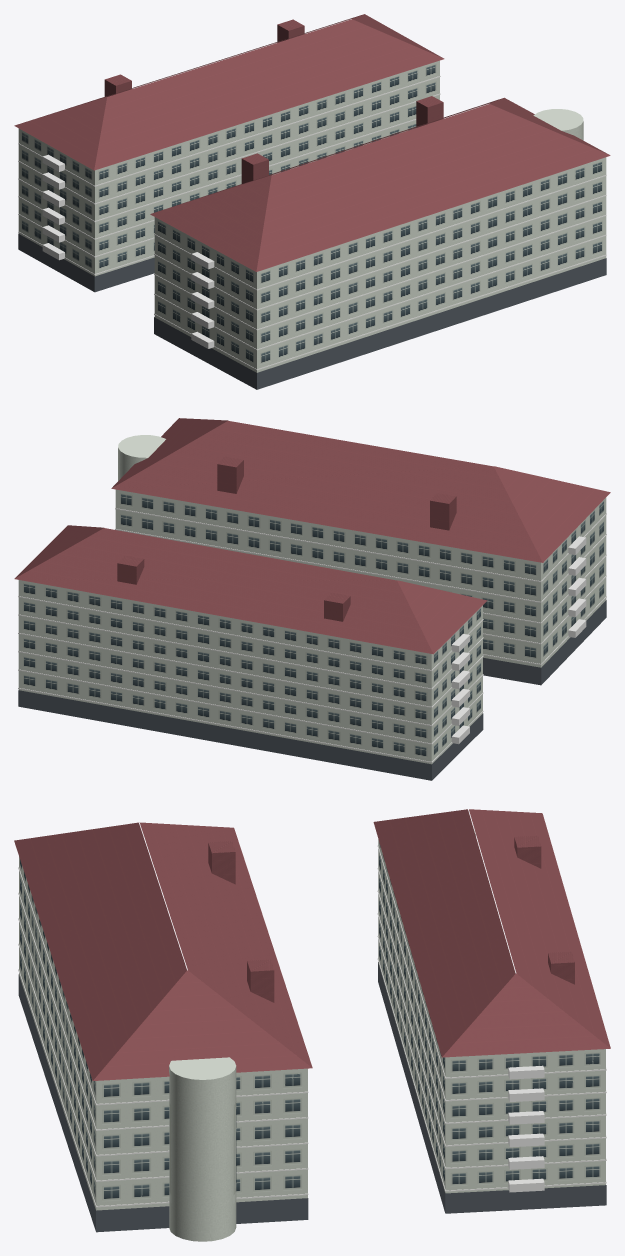
The model's file is dorm_qinyuan_d4.glb.
3 renders of one model, top to bottom at view 1: azimuth 30°, elevation 25°; view 2: azimuth 150°, elevation 25°; view 3: azimuth 270°, elevation 25°, orthographic. The views are drawn at different scales.
Parts seen in each view (by area): view 1: 862959357, 862959356; view 2: 862959356, 862959357; view 3: 862959357, 862959356.
Part boxes in pixels (x1=…): 862959357: x1=150, y1=96, x2=610, y2=389; 862959356: x1=14, y1=14, x2=444, y2=292; 862959356: x1=14, y1=525, x2=487, y2=780; 862959357: x1=111, y1=418, x2=610, y2=685; 862959357: x1=14, y1=822, x2=312, y2=1241; 862959356: x1=373, y1=809, x2=610, y2=1213.
Bounding box in the file's own units: 79.98 × 29.1 × 74.6.
Materials: 3 (2 with a texture image).
